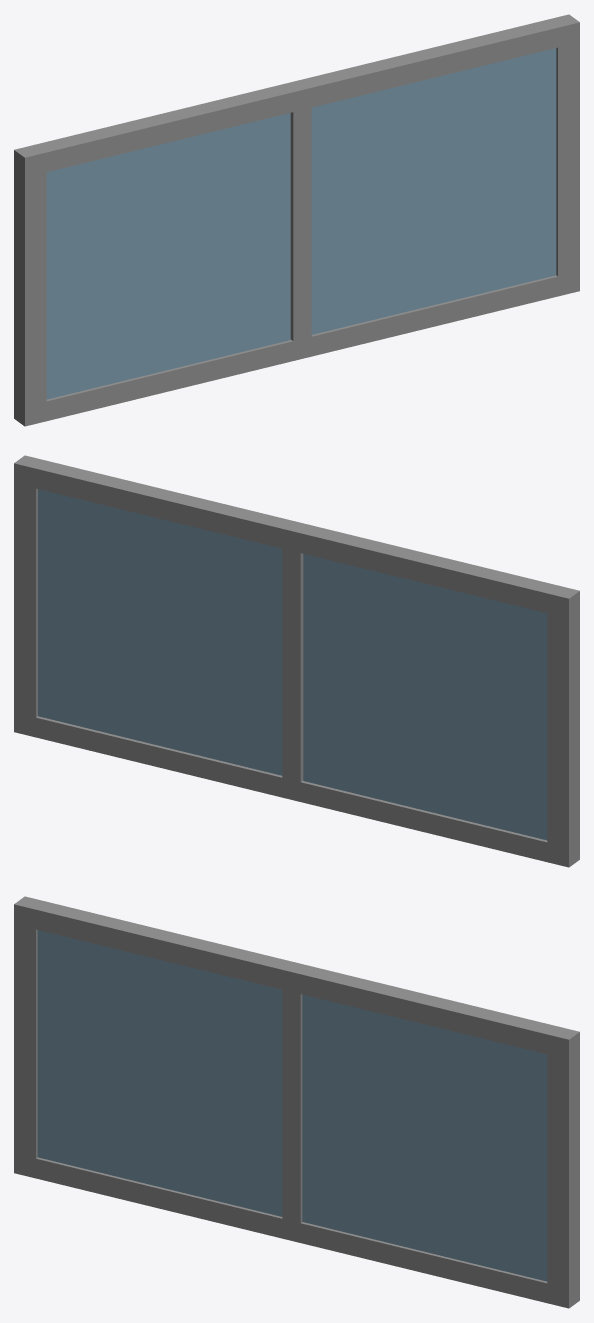
File: Window_16.fbx
The picture shows the model from 3 angles, top to bottom: view 1: azimuth 30°, elevation 25°; view 2: azimuth 150°, elevation 25°; view 3: azimuth 330°, elevation 25°; orthographic projection.
Visible parts, largest first — view 1: Window_16; view 2: Window_16; view 3: Window_16.
Part boxes in pixels (x1,y1,x2,y2): Window_16: [14, 14, 579, 426]; Window_16: [14, 455, 579, 867]; Window_16: [14, 896, 579, 1308].
Size of the model in its own units: 352 by 11.97 by 163.
